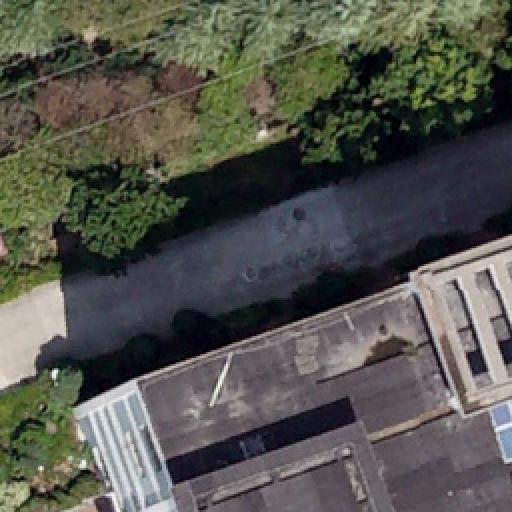solar-panel: (488, 400, 512, 460)
